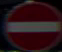No entry: (5, 5, 58, 42)
